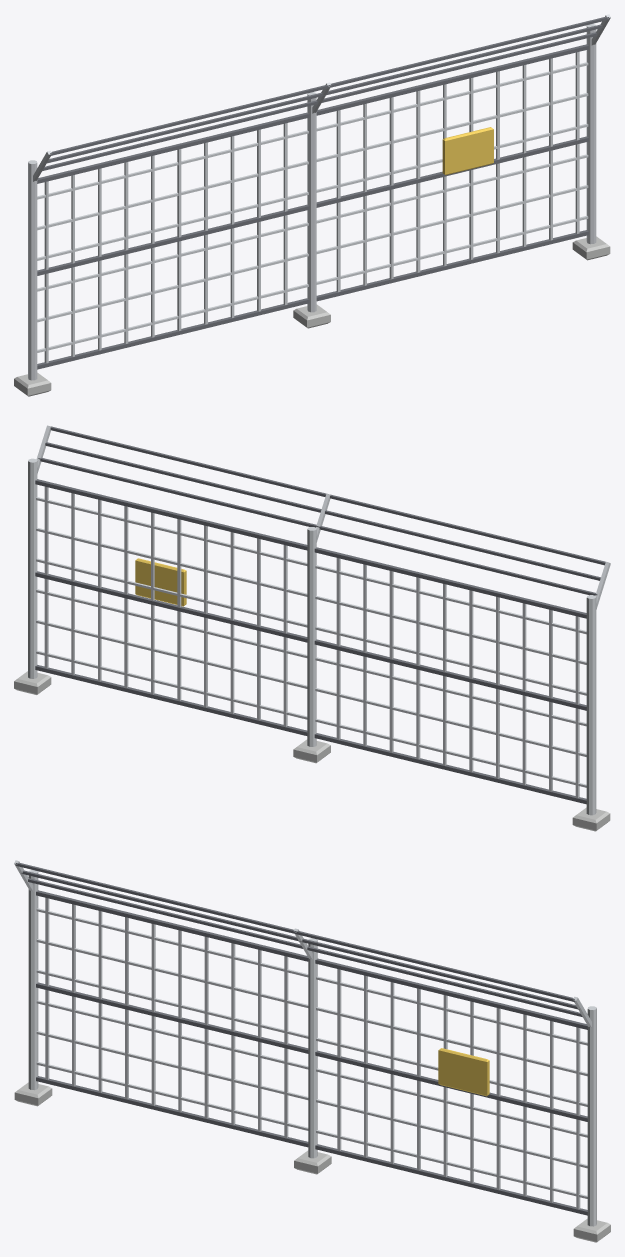
Rendered from perimeter_fence.glb.
3 renders of one model, top to bottom at view 1: azimuth 30°, elevation 25°; view 2: azimuth 150°, elevation 25°; view 3: azimuth 330°, elevation 25°, orthographic.
Parts seen in each view (by area): view 1: perimeter-fence-run; view 2: perimeter-fence-run; view 3: perimeter-fence-run.
Boxes of the visible parts, <box> form: perimeter-fence-run: <box>14,14,610,396</box>; perimeter-fence-run: <box>14,425,610,831</box>; perimeter-fence-run: <box>14,860,610,1242</box>.
Size of the model in its own units: 8.34 by 3.43 by 0.6098.
1 material, 1 textured.
